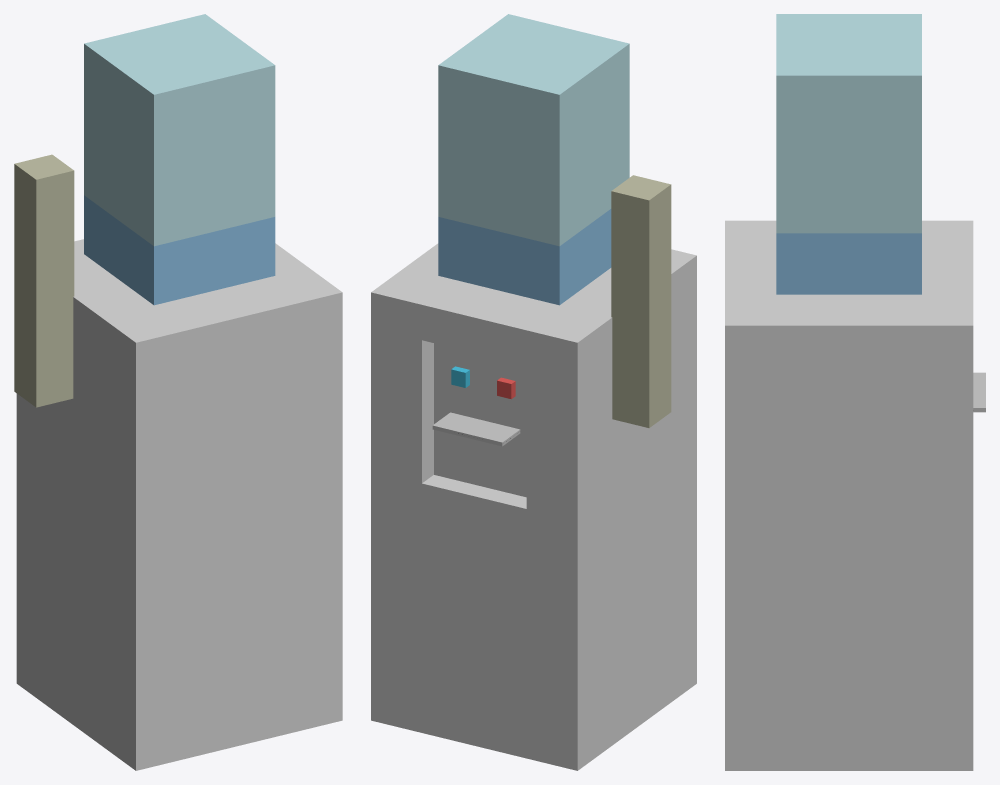
Rendered from OF_Water.fbx.
The picture shows the model from 3 angles, left to right: view 1: azimuth 30°, elevation 25°; view 2: azimuth 150°, elevation 25°; view 3: azimuth 270°, elevation 25°; orthographic projection. The views are drawn at different scales.
Parts seen in each view (by area): view 1: Cube.016; view 2: Cube.016; view 3: Cube.016.
Boxes of the visible parts, x1=… form: Cube.016: x1=14, y1=14, x2=342, y2=770; Cube.016: x1=371, y1=14, x2=696, y2=770; Cube.016: x1=725, y1=14, x2=985, y2=770.
Size of the model in its own units: 83.67 by 213 by 74.53.
7 materials, 1 textured.
